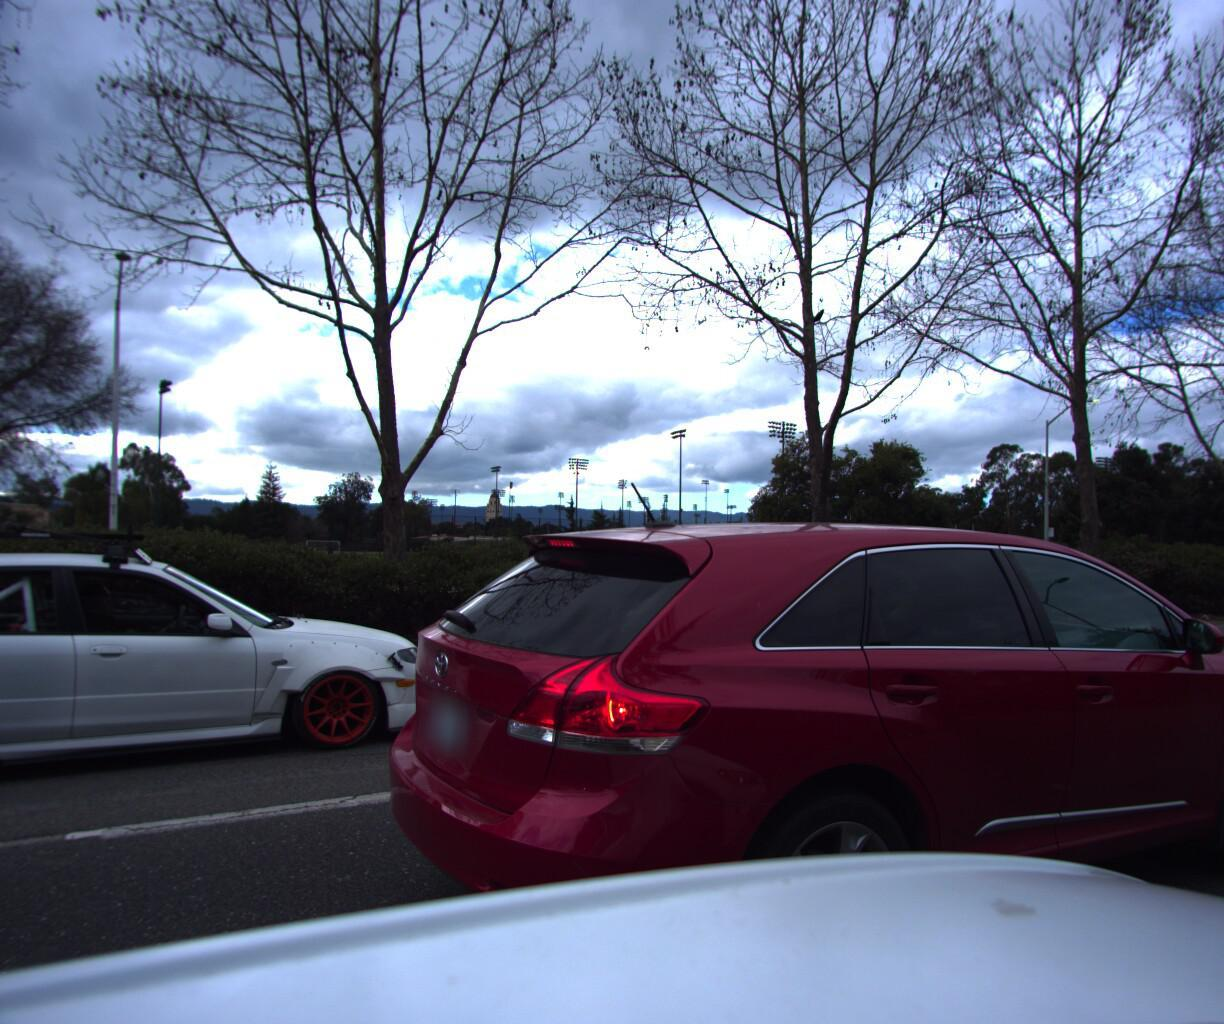car: (335, 489, 1224, 1024), (0, 492, 477, 816)
